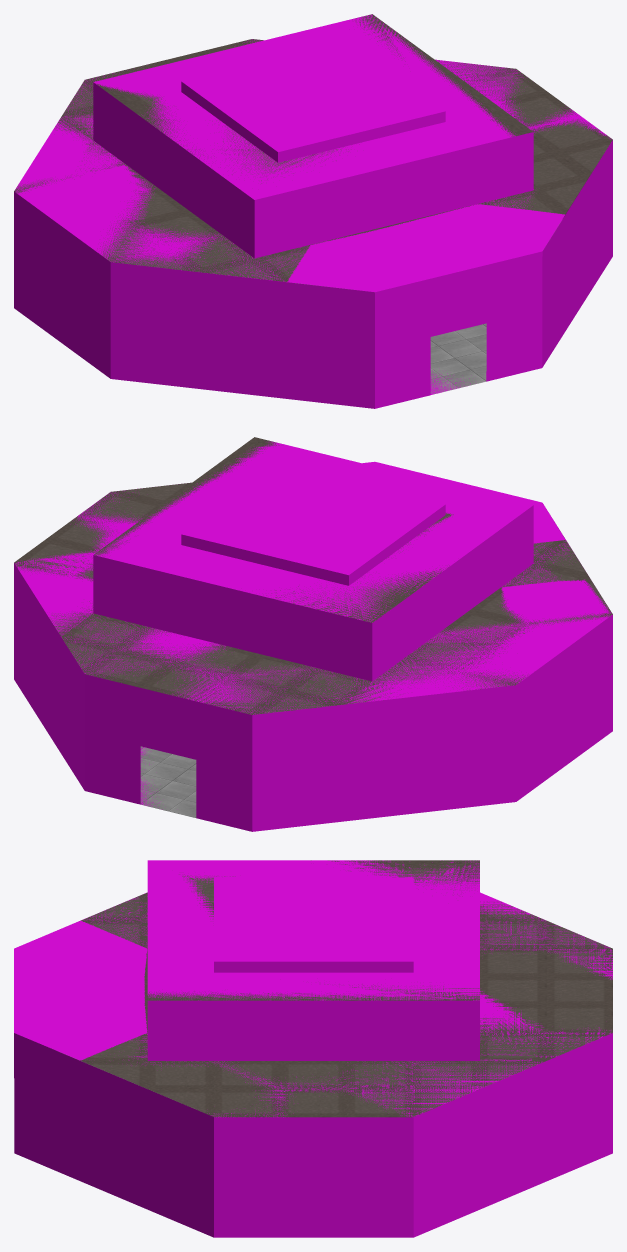
The model's file is mint_shelf_room.fbx.
3 views of the same model, one above another, from view 1: azimuth 30°, elevation 25°; view 2: azimuth 150°, elevation 25°; view 3: azimuth 270°, elevation 25° (orthographic). The views are drawn at different scales.
Visible parts, largest first — view 1: walls, ceiling1 (×2), ceiling2, Ceiling2, floor; view 2: walls, ceiling1 (×2), ceiling2, Ceiling2, floor; view 3: walls, ceiling1 (×2), ceiling2, Ceiling2.
Part boxes in pixels (box(x1,y1,x2,y2)): walls: box(14, 40, 612, 408); ceiling1 (×2): box(14, 39, 612, 292); ceiling2: box(93, 14, 515, 199); Ceiling2: box(97, 14, 532, 183); floor: box(175, 224, 559, 394); walls: box(14, 463, 612, 831); ceiling1 (×2): box(14, 461, 612, 714); ceiling2: box(94, 441, 533, 622); Ceiling2: box(94, 437, 453, 622); floor: box(140, 746, 196, 817); walls: box(14, 877, 612, 1237); ceiling1 (×2): box(14, 892, 612, 1117); ceiling2: box(147, 860, 479, 1000); Ceiling2: box(147, 860, 479, 1000).
Bounding box in the file's own units: 135 × 47.73 × 135.
